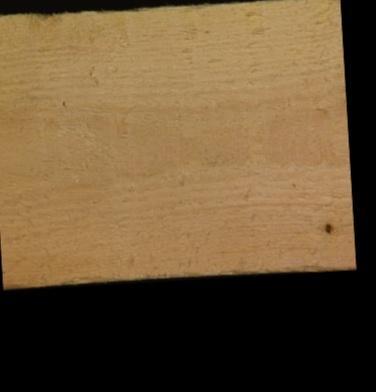small_knot: (320, 217, 334, 236)
wave: (55, 268, 134, 281)
